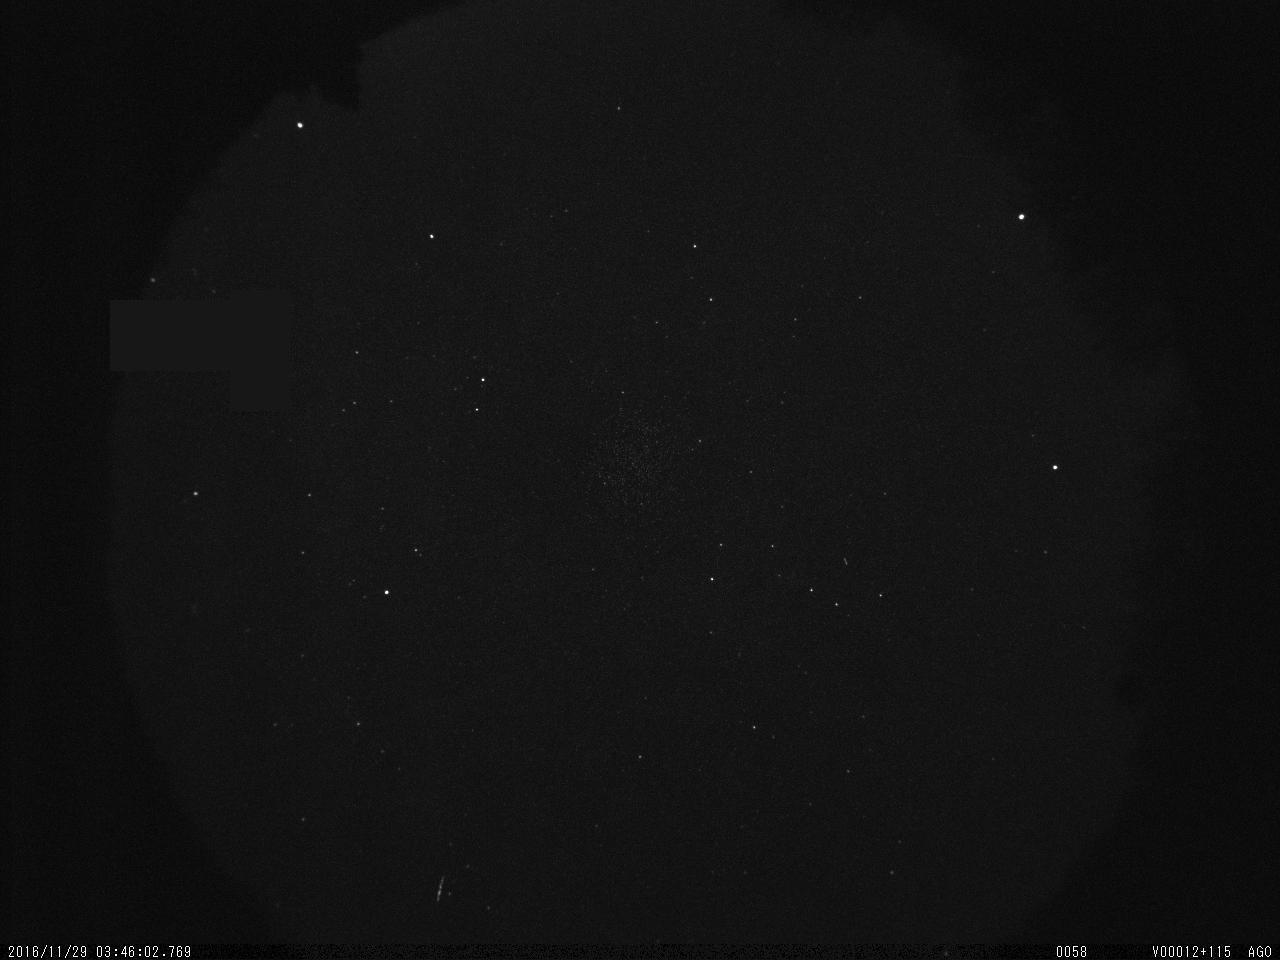meteor: (433, 873, 448, 911)
